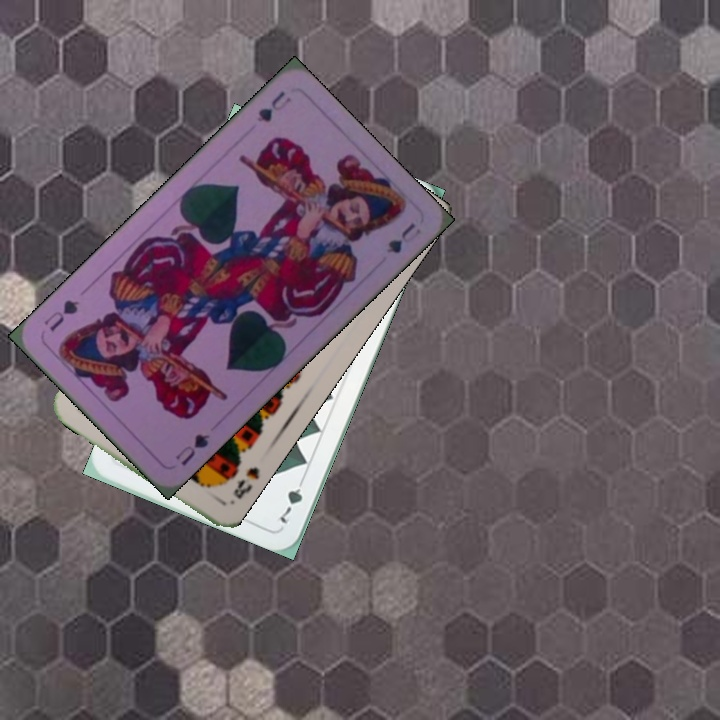G7: (276, 472, 306, 527)
GU: (171, 429, 212, 469), (253, 87, 294, 125)
S8: (229, 463, 262, 502)
